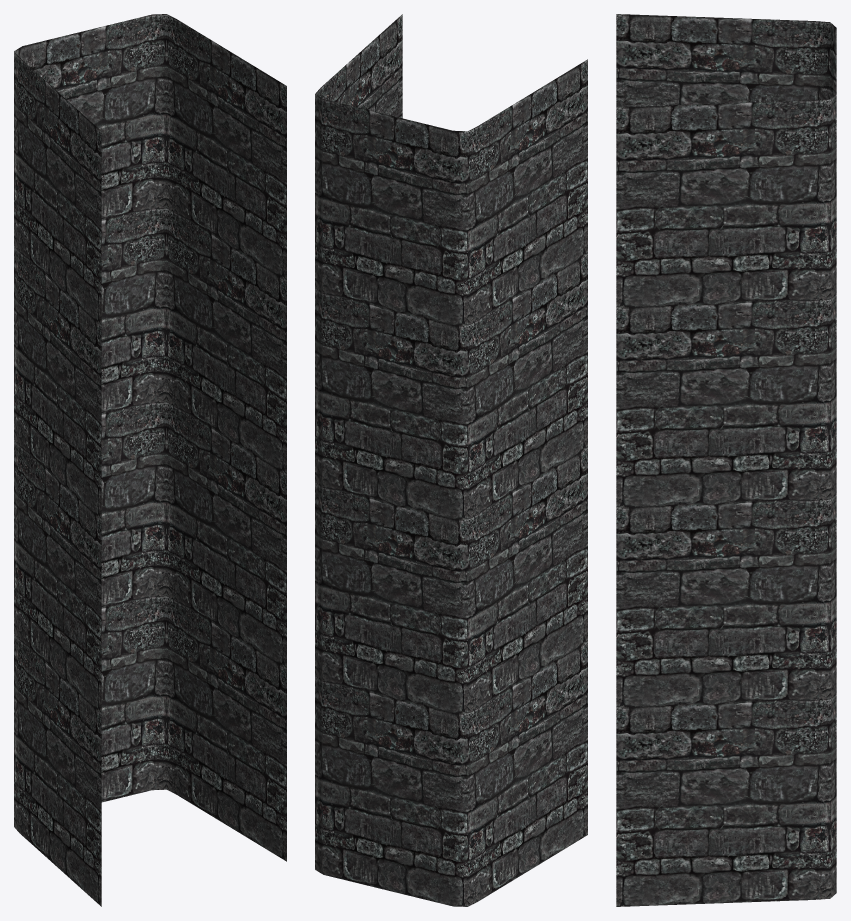
The model's file is wallBlockIS.fbx.
3 views of the same model, side by side, from view 1: azimuth 30°, elevation 25°; view 2: azimuth 150°, elevation 25°; view 3: azimuth 270°, elevation 25° (orthographic). The views are drawn at different scales.
Visible parts, largest first — view 1: polySurface31; view 2: polySurface31; view 3: polySurface31.
Boxes of the visible parts, box(x1,y1,x2,y2) form: polySurface31: box(14, 14, 286, 906); polySurface31: box(315, 14, 587, 906); polySurface31: box(616, 14, 836, 906).
Bounding box in the file's own units: 2 × 8 × 2.
